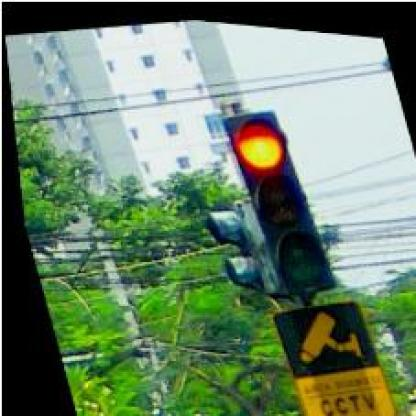red: (218, 97, 332, 292)
